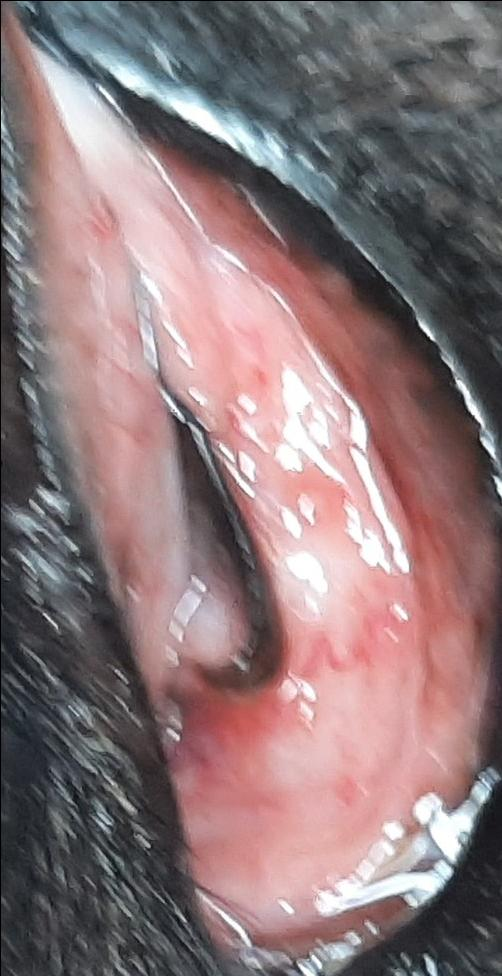eye_membrane: (4, 7, 498, 959)
